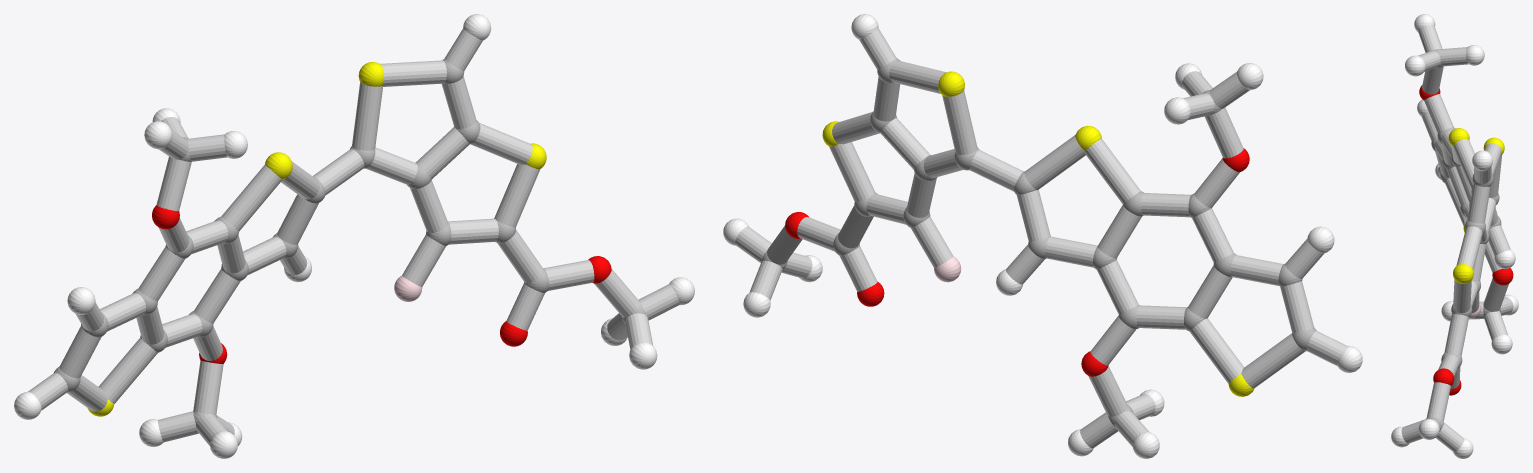
The model's file is color.glb.
3 views of the same model, side by side, from view 1: azimuth 30°, elevation 25°; view 2: azimuth 150°, elevation 25°; view 3: azimuth 270°, elevation 25° (orthographic). The views are drawn at different scales.
Visible parts, largest first — view 1: grp15205, grp8689, grp1, grp7241, grp13395; view 2: grp15205, grp8689, grp1, grp13395, grp7241; view 3: grp15205, grp8689, grp1, grp13395, grp7241.
Part boxes in pixels (<box>): grp15205: <box>28,29,679,445</box>; grp8689: <box>14,14,694,458</box>; grp1: <box>54,59,646,433</box>; grp7241: <box>87,62,546,416</box>; grp13395: <box>152,205,611,363</box>; grp15205: <box>735,28,1346,448</box>; grp8689: <box>723,14,1362,458</box>; grp1: <box>761,58,1316,426</box>; grp13395: <box>785,148,1249,376</box>; grp7241: <box>822,71,1254,396</box>; grp15205: <box>1401,25,1513,451</box>; grp8689: <box>1391,14,1518,458</box>; grp1: <box>1425,49,1501,428</box>; grp13395: <box>1419,85,1513,395</box>; grp7241: <box>1448,128,1504,283</box>.
Size of the model in its own units: 16.39 by 9.27 by 3.65.
